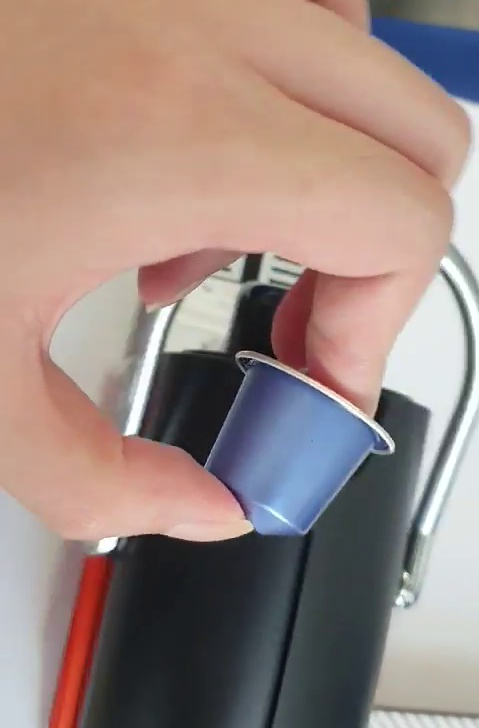capsule_7: (200, 348, 398, 539)
